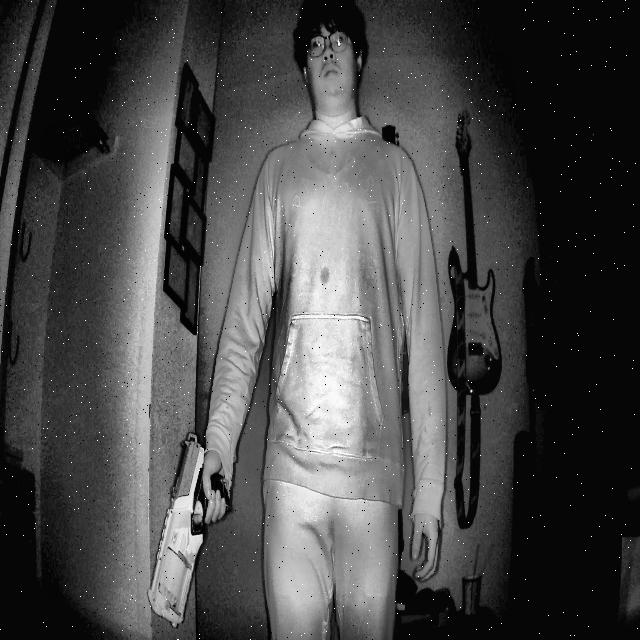Nerf_Blaster: (142, 388, 238, 636)
